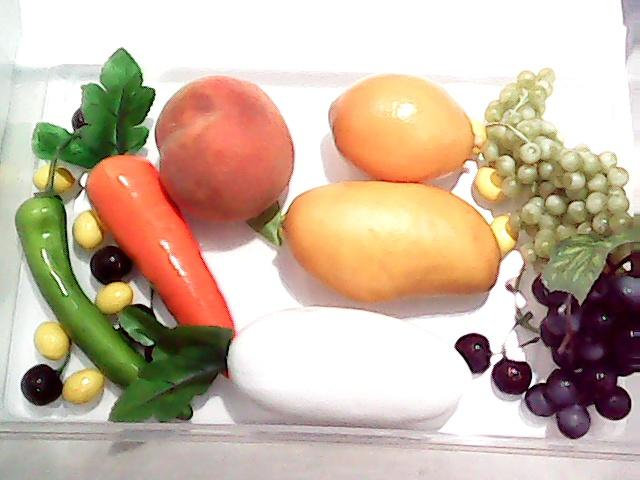carrot: (32, 46, 240, 378)
grape: (478, 64, 640, 268), (522, 240, 640, 440)
lemon: (323, 72, 489, 188)
mango: (281, 187, 499, 302)
peach: (154, 73, 296, 221)
pepper: (13, 168, 195, 420)
radish: (109, 311, 475, 428)
